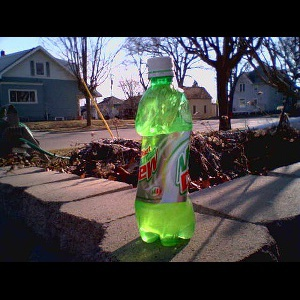emptybottle: (136, 58, 195, 247)
